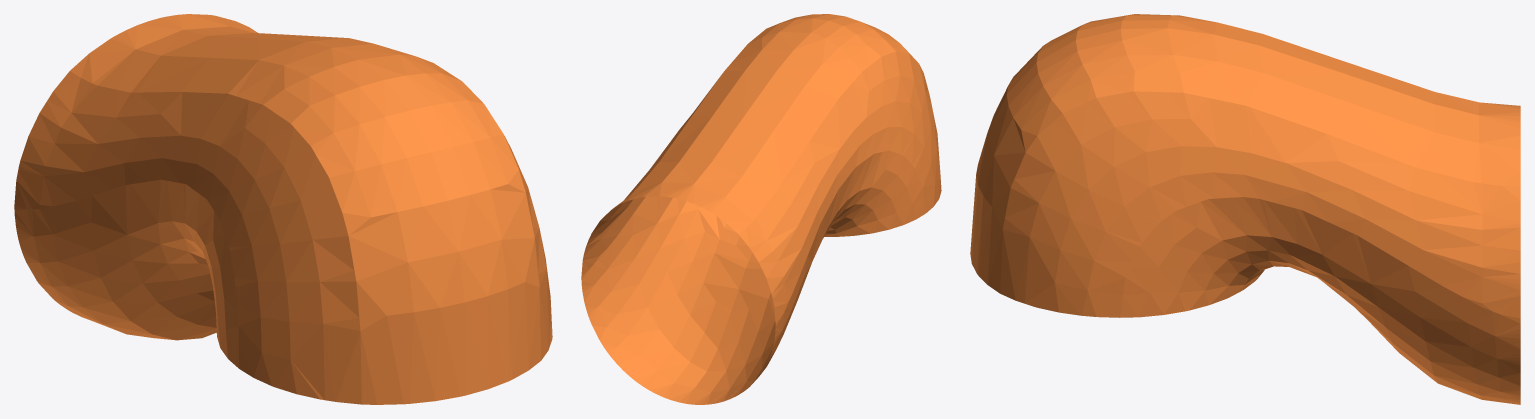
The model's file is kuka_URDF_link_4_vis_1.dae.
The picture shows the model from 3 angles, left to right: view 1: azimuth 30°, elevation 25°; view 2: azimuth 150°, elevation 25°; view 3: azimuth 270°, elevation 25°; orthographic projection. The views are drawn at different scales.
Visible parts, largest first — view 1: Node_0000020FCC5901C0; view 2: Node_0000020FCC5901C0; view 3: Node_0000020FCC5901C0.
Boxes of the visible parts, left/top/right/bottom form: Node_0000020FCC5901C0: left=14, top=14, right=552, bottom=404; Node_0000020FCC5901C0: left=581, top=14, right=941, bottom=404; Node_0000020FCC5901C0: left=970, top=14, right=1520, bottom=404.
Bounding box in the file's own units: 0.136 × 0.1823 × 0.2505.
